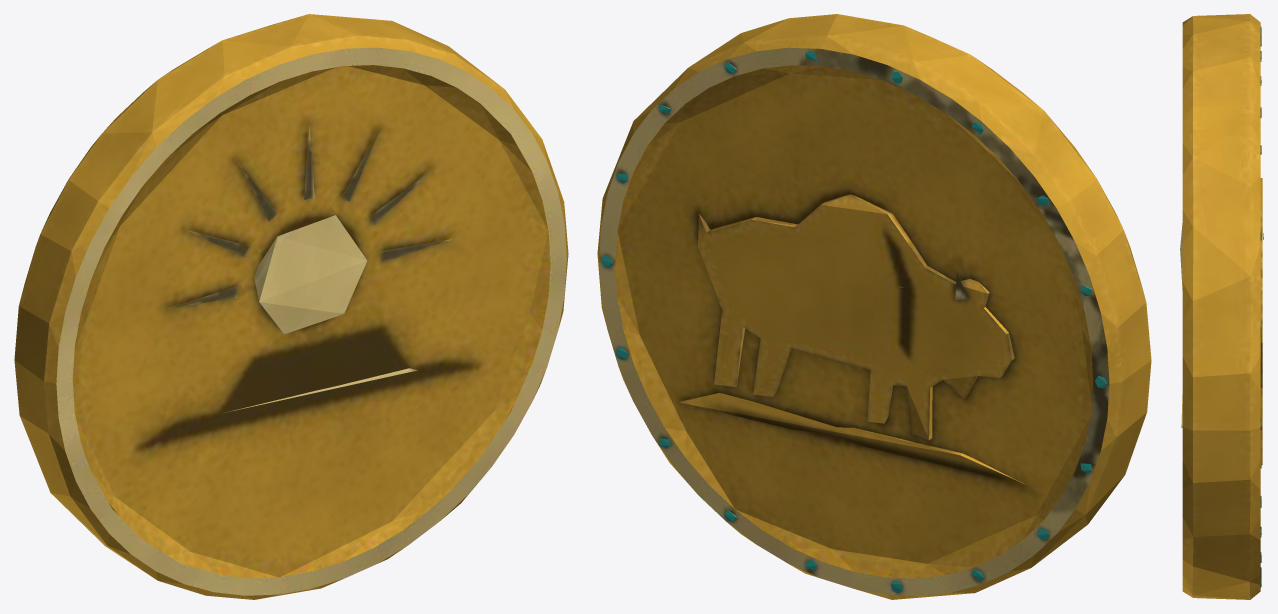
3 views of the same model, side by side, from view 1: azimuth 30°, elevation 25°; view 2: azimuth 150°, elevation 25°; view 3: azimuth 270°, elevation 25° (orthographic). The views are drawn at different scales.
Parts seen in each view (by area): view 1: Hammered_antique_gold, Worn_raised_gold; view 2: Hammered_antique_gold, Worn_raised_gold, Polished_turquoise_inlay; view 3: Hammered_antique_gold, Polished_turquoise_inlay, Worn_raised_gold.
Part boxes in pixels (x1=…): Hammered_antique_gold: x1=14, y1=14, x2=568, y2=599; Worn_raised_gold: x1=56, y1=47, x2=566, y2=595; Hammered_antique_gold: x1=597, y1=14, x2=1151, y2=599; Worn_raised_gold: x1=599, y1=47, x2=1109, y2=595; Polished_turquoise_inlay: x1=600, y1=50, x2=1107, y2=593; Hammered_antique_gold: x1=1182, y1=14, x2=1262, y2=599; Polished_turquoise_inlay: x1=1260, y1=26, x2=1261, y2=587; Worn_raised_gold: x1=1180, y1=223, x2=1263, y2=427.
Size of the model in its own units: 0.9 by 0.9003 by 0.129.
Materials: 3 (3 with a texture image).
